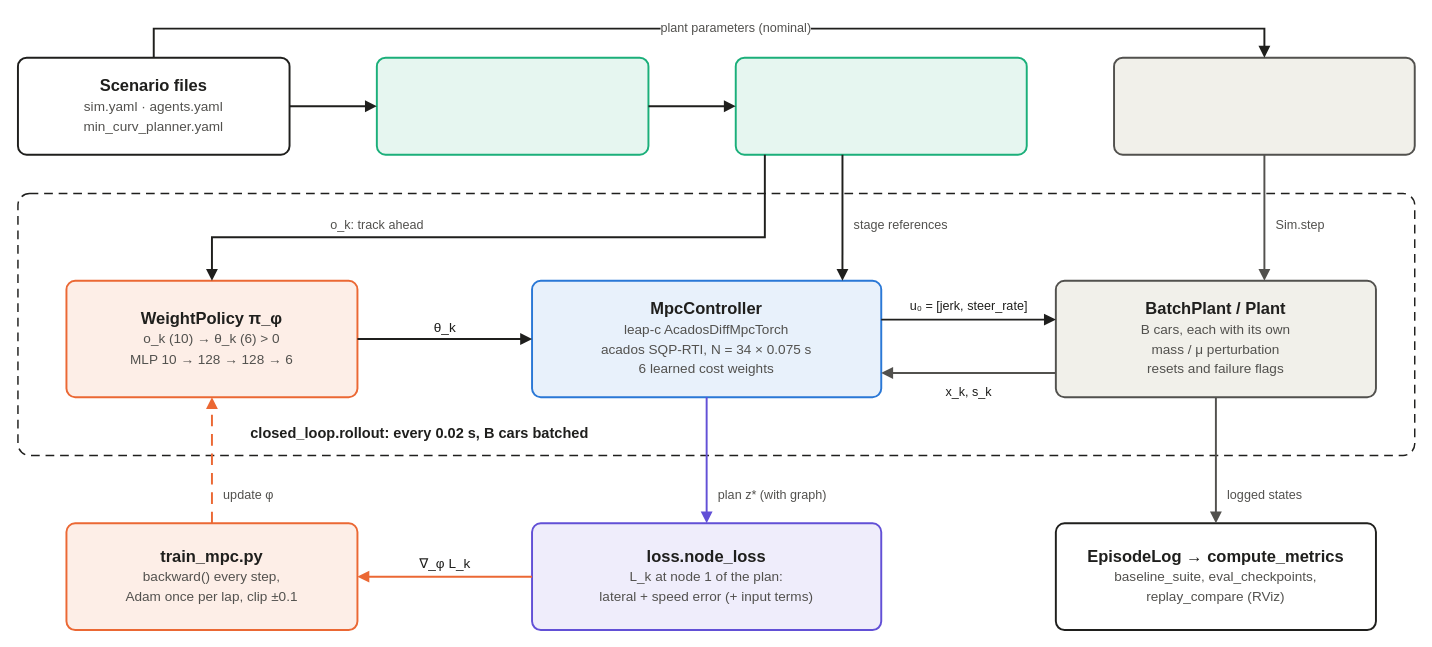
Image size: 1432x647. Some labels were removed from this diagram. Each missing label, with the centre of its shape:
compute_raceline C++ min_curv_planner_core through pybind11: the point at 512,105
plannertrack_py.Sim C++ SingleTrackAugDynModel through pybind11: the point at 1264,105
ReferenceTrack project(x, y) → s, n stage refs, 5 + 5 look-ahead: the point at 880,105
